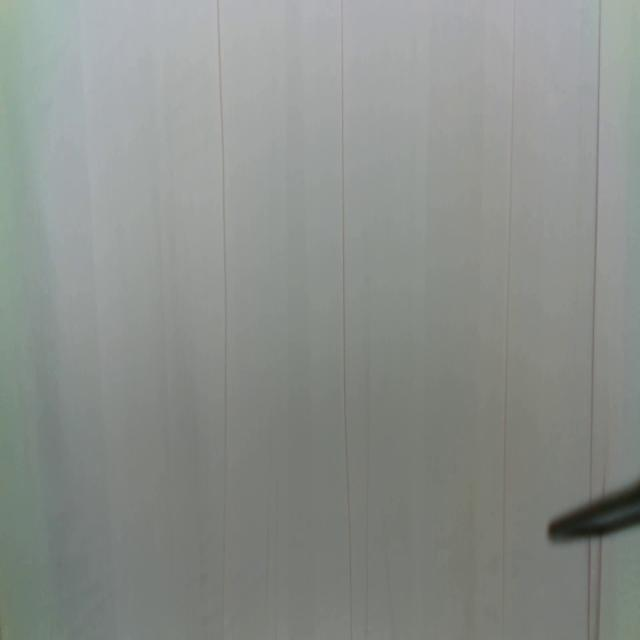crease: (500, 0, 518, 640), (338, 0, 355, 639), (216, 0, 230, 640), (587, 0, 602, 498), (595, 537, 603, 640), (586, 539, 594, 640)
